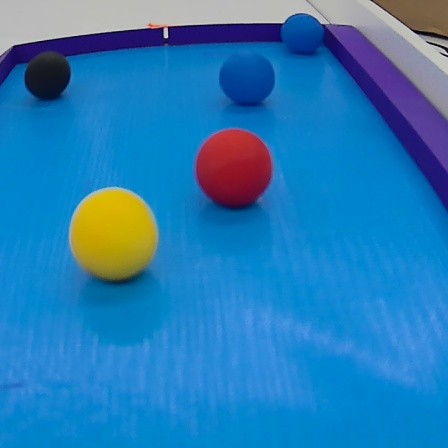black: (18, 50, 72, 103)
blue: (219, 48, 276, 111), (279, 11, 325, 58)
blue_aim: (2, 24, 448, 448)
red: (193, 127, 276, 212)
yellow: (61, 183, 159, 280)
